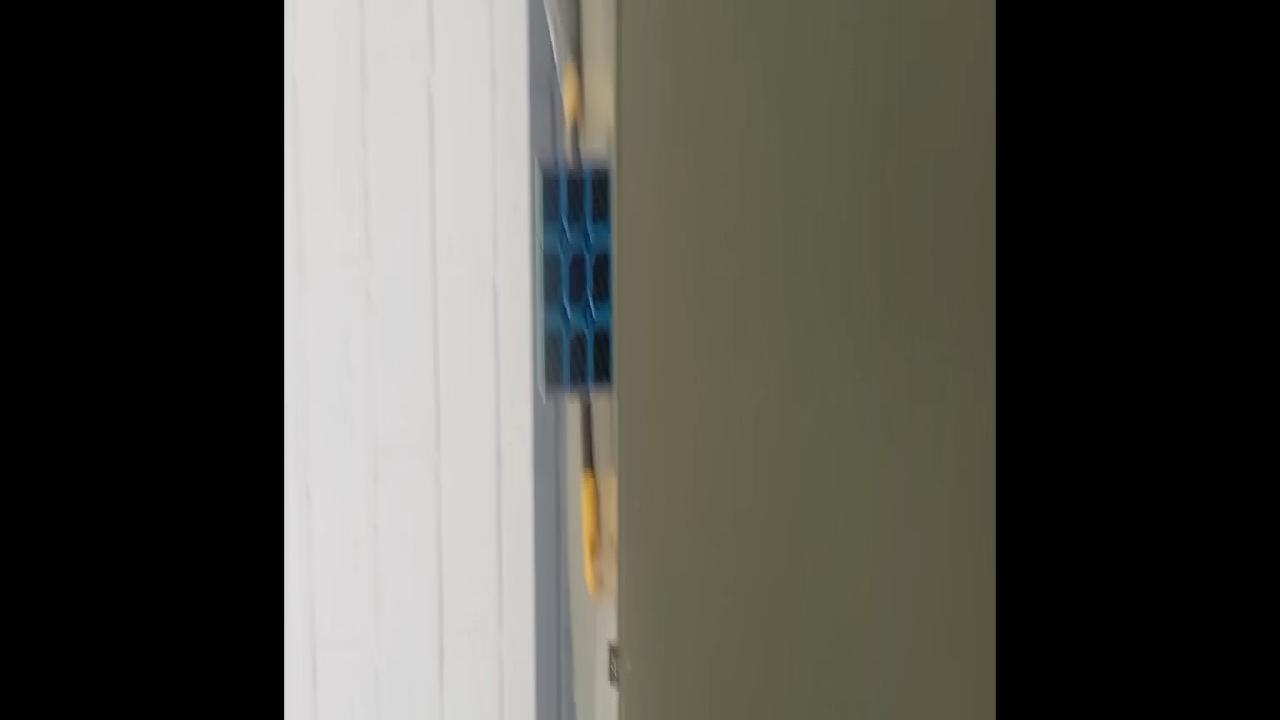Cube: (534, 154, 614, 408)
